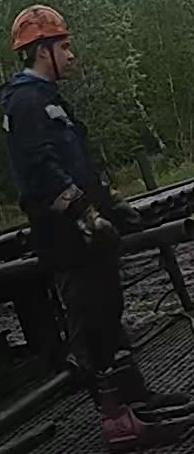gloves: (64, 196, 119, 258), (95, 181, 142, 234)
helmet: (9, 4, 71, 51)
vest: (0, 72, 118, 267)
